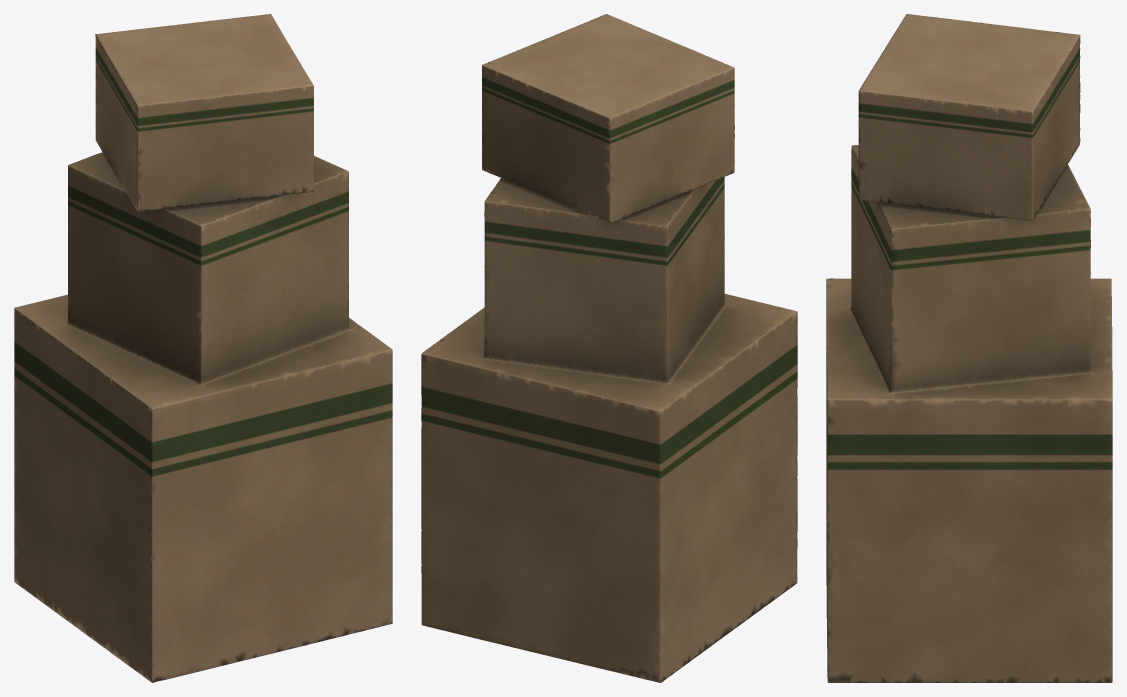
Rendered from boxes.gltf.
3 views of the same model, side by side, from view 1: azimuth 30°, elevation 25°; view 2: azimuth 150°, elevation 25°; view 3: azimuth 270°, elevation 25° (orthographic). The views are drawn at different scales.
Visible parts, largest first — view 1: box_stack, box_top; view 2: box_stack, box_top; view 3: box_stack, box_top.
Part boxes in pixels (bbox=[...]): box_stack: bbox=[14, 152, 392, 682]; box_top: bbox=[95, 14, 313, 211]; box_stack: bbox=[421, 177, 797, 682]; box_top: bbox=[482, 14, 734, 223]; box_stack: bbox=[826, 145, 1112, 682]; box_top: bbox=[858, 14, 1080, 220].
Size of the model in its own units: 0.8836 by 1.9 by 0.8797.
Materials: 1 (1 with a texture image).
